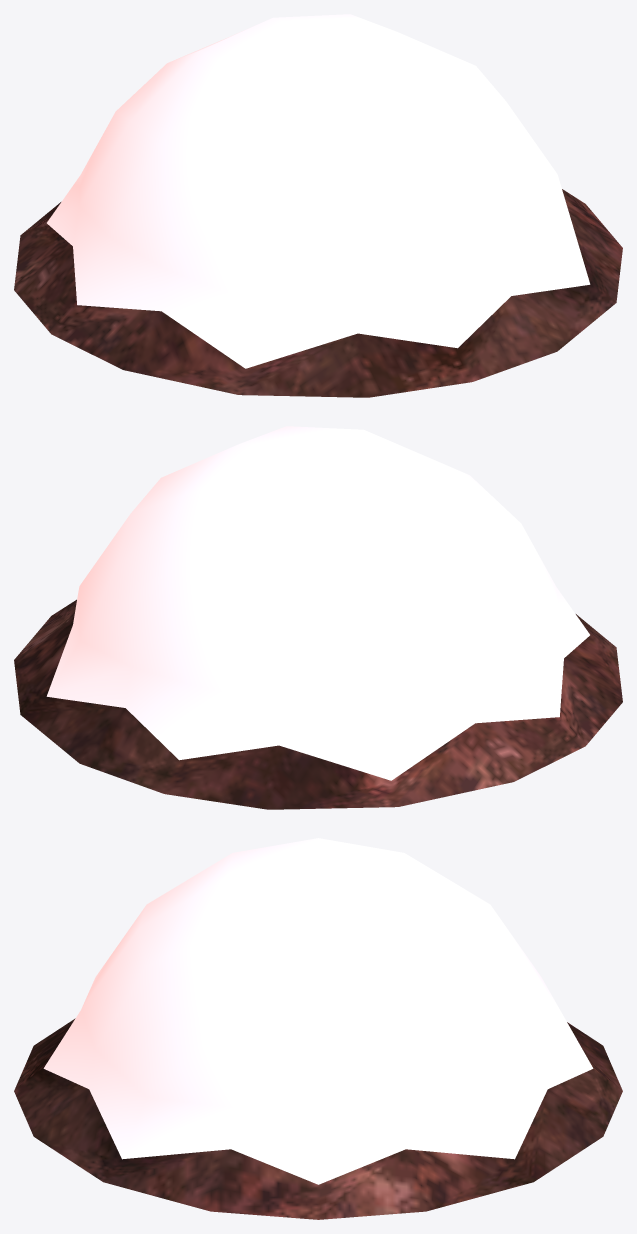
File: Boil.glb
3 renders of one model, top to bottom at view 1: azimuth 30°, elevation 25°; view 2: azimuth 150°, elevation 25°; view 3: azimuth 270°, elevation 25°, orthographic.
Parts seen in each view (by area): view 1: Roundcube; view 2: Roundcube; view 3: Roundcube.
Part boxes in pixels (x1,y1,x2,y2): Roundcube: (14,14,622,397); Roundcube: (14,426,622,809); Roundcube: (14,838,622,1219).
Bounding box in the file's own units: 3.84 × 1.6 × 3.84.
2 materials, 1 textured.
